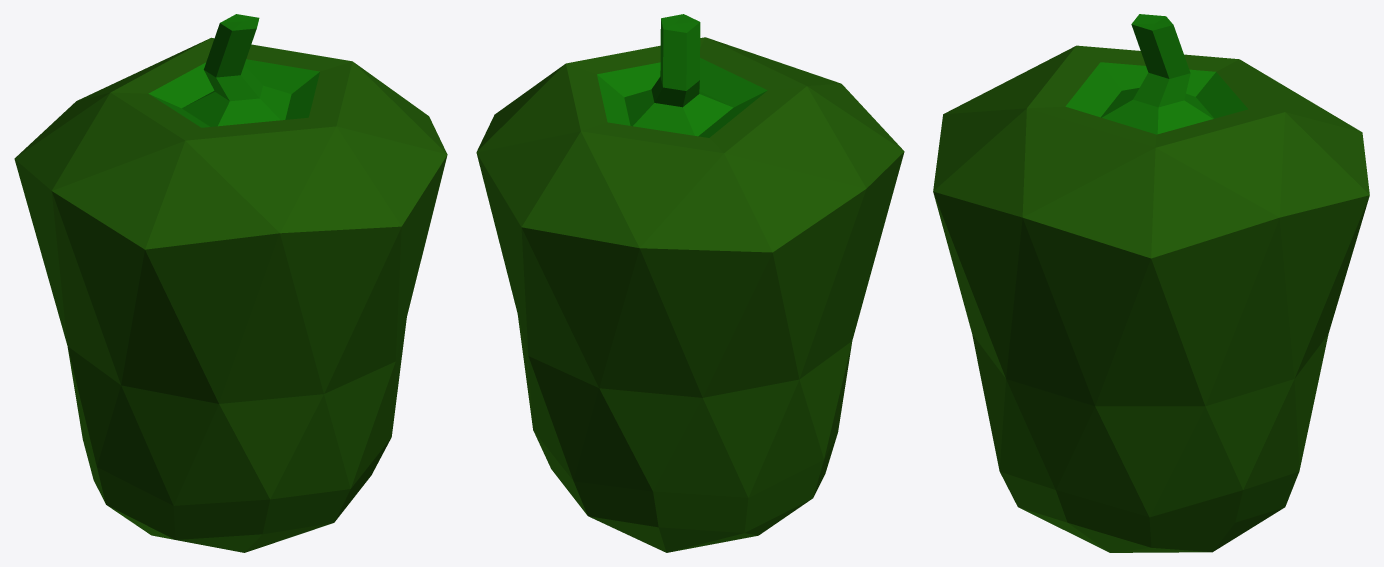
File: bellpepper_green.fbx
The picture shows the model from 3 angles, left to right: view 1: azimuth 30°, elevation 25°; view 2: azimuth 150°, elevation 25°; view 3: azimuth 270°, elevation 25°; orthographic projection. The views are drawn at different scales.
Visible parts, largest first — view 1: Icosphere; view 2: Icosphere; view 3: Icosphere.
Boxes of the visible parts, box(x1,y1,x2,y2) form: Icosphere: box(14, 14, 447, 552); Icosphere: box(476, 14, 904, 552); Icosphere: box(933, 14, 1369, 552).
Bounding box in the file's own units: 296 × 371 × 289.
